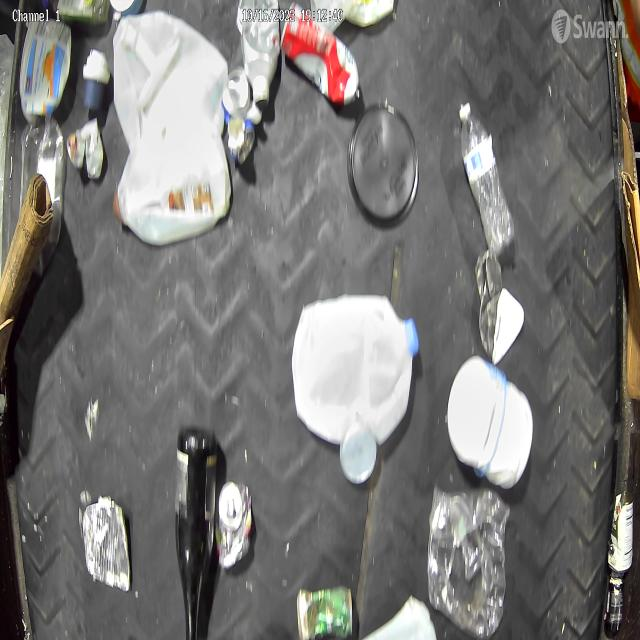can: (280, 4, 362, 111), (81, 492, 132, 594), (214, 480, 255, 570), (295, 582, 356, 640), (222, 69, 256, 166), (606, 488, 636, 573), (603, 574, 625, 636)
milk_jug: (291, 292, 420, 448), (110, 101, 232, 248), (111, 8, 230, 156)
plastic_bottle: (456, 98, 516, 258)
